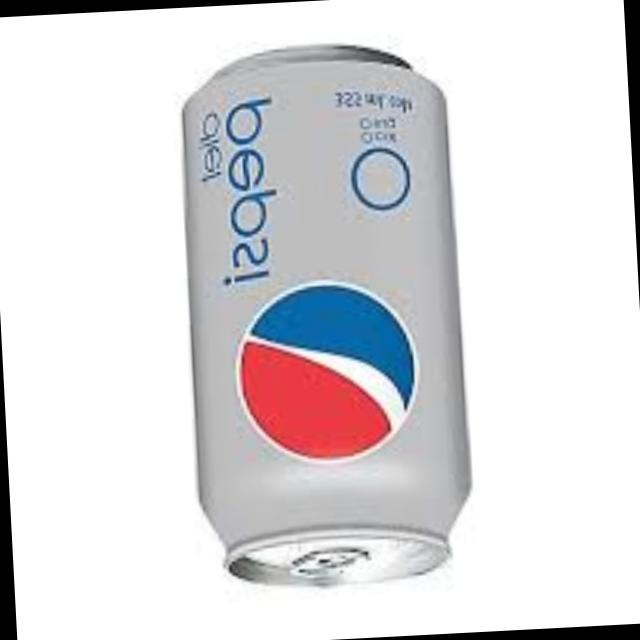metal: (178, 55, 463, 589)
